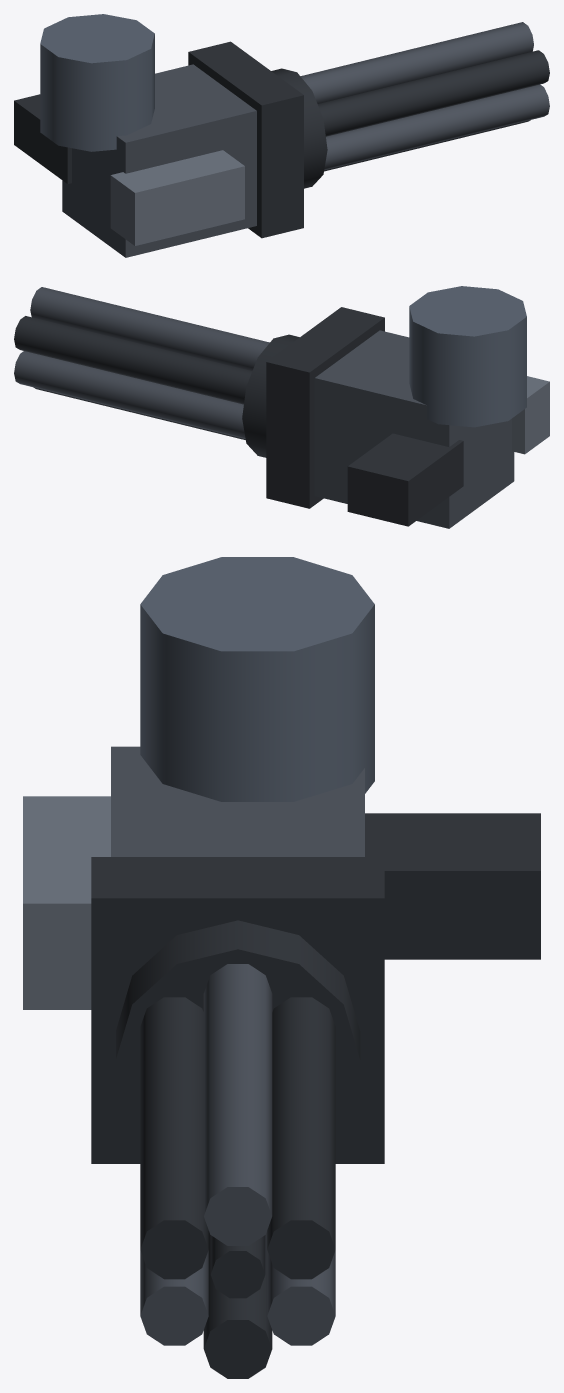
The model's file is minigun.glb.
The picture shows the model from 3 angles, top to bottom: view 1: azimuth 30°, elevation 25°; view 2: azimuth 150°, elevation 25°; view 3: azimuth 270°, elevation 25°; orthographic projection. The views are drawn at different scales.
Parts seen in each view (by area): view 1: Rotor, Minigun, Housing, AmmoDrum, Shroud; view 2: Rotor, Minigun, Housing, AmmoDrum, Shroud; view 3: Minigun, Rotor, AmmoDrum, Housing, Shroud.
Part boxes in pixels (x1,y1,x2,y2): Rotor: [300, 22, 549, 171]; Minigun: [14, 41, 303, 245]; Housing: [62, 64, 256, 257]; AmmoDrum: [40, 14, 154, 151]; Shroud: [271, 68, 327, 188]; Rotor: [14, 287, 269, 439]; Minigun: [266, 307, 549, 526]; Housing: [314, 330, 514, 528]; AmmoDrum: [409, 286, 526, 427]; Shroud: [242, 334, 299, 457]; Minigun: [23, 796, 540, 1163]; Rotor: [140, 964, 335, 1378]; AmmoDrum: [140, 557, 374, 801]; Housing: [111, 746, 364, 856]; Shroud: [116, 920, 360, 1122].
Size of the model in its own units: 1.11 by 0.45 by 0.53.
